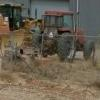Tractor: (28, 6, 100, 62)
